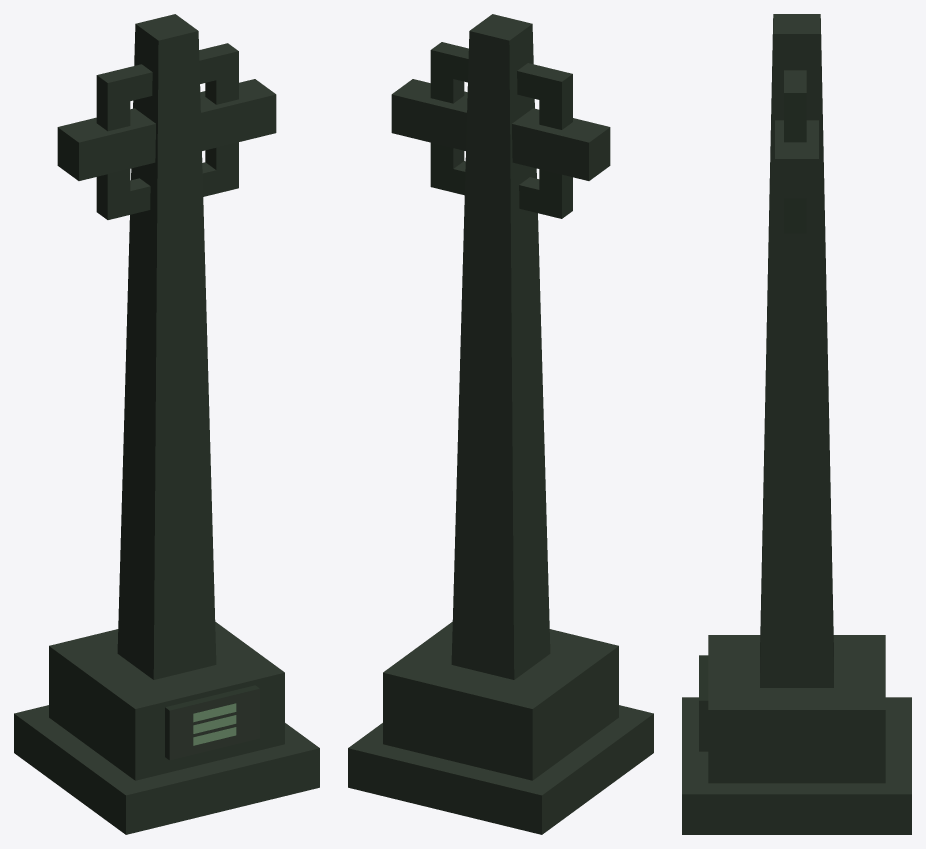
File: SF_Prop_Grave_01.glb
The picture shows the model from 3 angles, left to right: view 1: azimuth 30°, elevation 25°; view 2: azimuth 150°, elevation 25°; view 3: azimuth 270°, elevation 25°; orthographic projection. The views are drawn at different scales.
Visible parts, largest first — view 1: SF_Prop_Grave_01; view 2: SF_Prop_Grave_01; view 3: SF_Prop_Grave_01.
Boxes of the visible parts, x1,y1,x2,y2 form: SF_Prop_Grave_01: (14, 14, 319, 834); SF_Prop_Grave_01: (348, 14, 653, 834); SF_Prop_Grave_01: (682, 14, 911, 834).
Size of the model in its own units: 0.016 by 0.0575 by 0.0157.
1 material, 1 textured.
